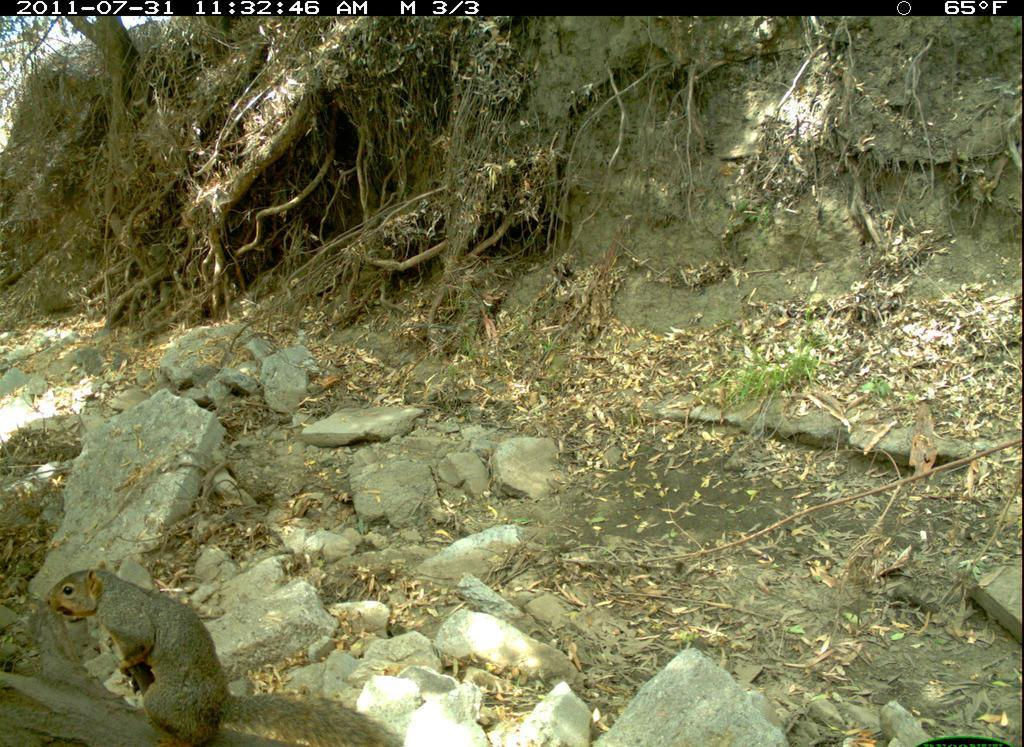squirrel: (38, 562, 257, 747)
